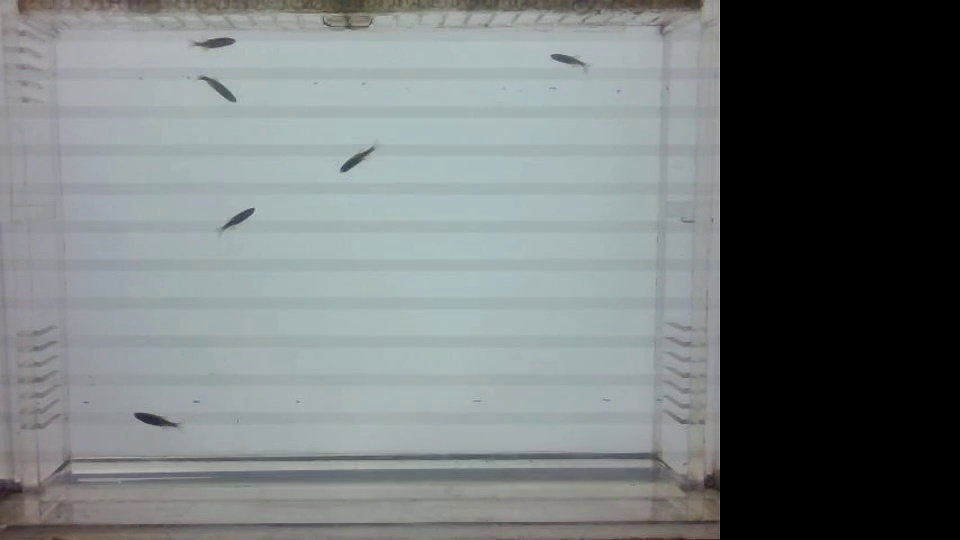fish: (320, 141, 382, 178), (192, 64, 236, 112), (212, 202, 261, 236), (540, 48, 588, 77), (130, 408, 184, 433), (186, 30, 237, 56)
